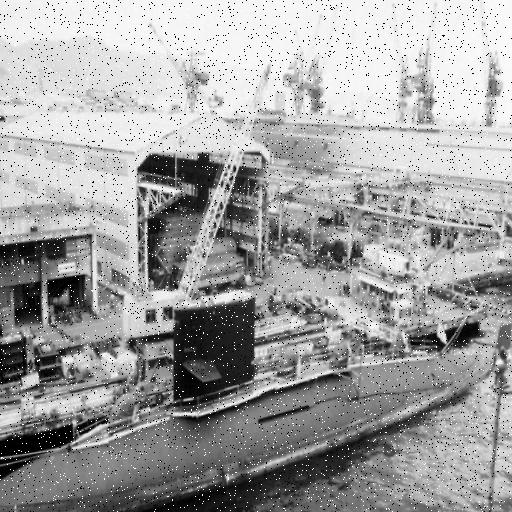submarine: (1, 293, 512, 512)
